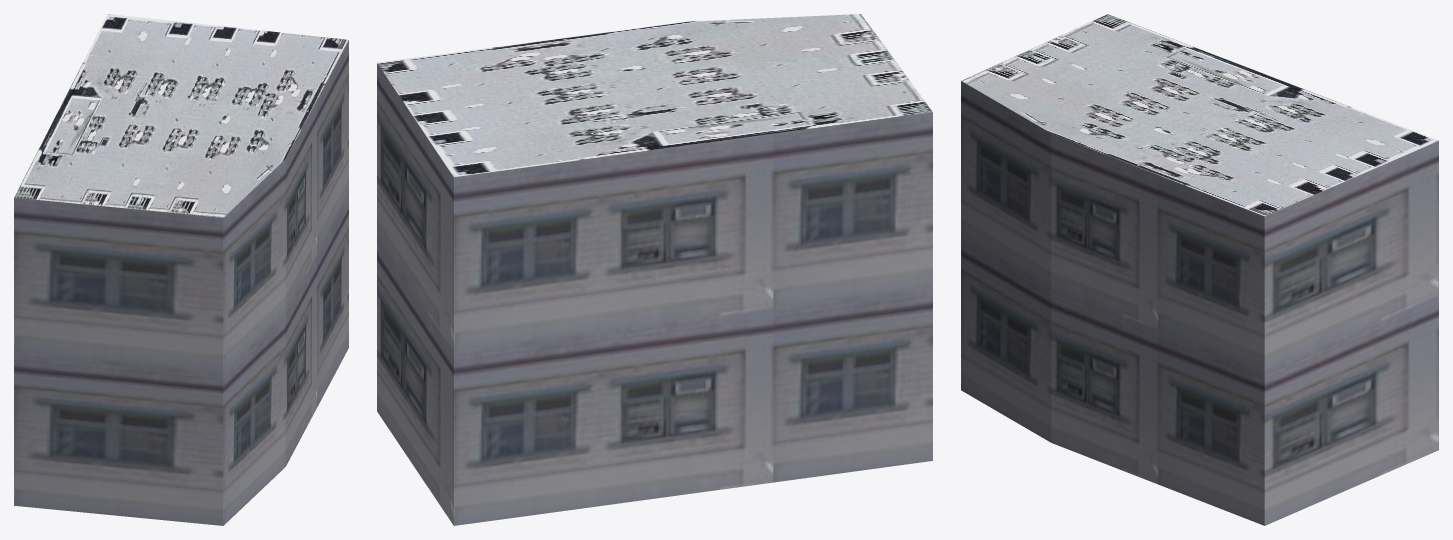
Rendered from ResTex__276.fbx.
3 renders of one model, left to right at view 1: azimuth 30°, elevation 25°; view 2: azimuth 150°, elevation 25°; view 3: azimuth 270°, elevation 25°, orthographic. The views are drawn at different scales.
Parts seen in each view (by area): view 1: CityEngineMaterial_1_m, CityEngineMaterial_2_m; view 2: CityEngineMaterial_1_m, CityEngineMaterial_2_m; view 3: CityEngineMaterial_1_m, CityEngineMaterial_2_m.
Part boxes in pixels (x1=…): CityEngineMaterial_1_m: x1=14, y1=40, x2=348, y2=525; CityEngineMaterial_2_m: x1=14, y1=14, x2=348, y2=217; CityEngineMaterial_1_m: x1=377, y1=63, x2=932, y2=525; CityEngineMaterial_2_m: x1=377, y1=14, x2=932, y2=177; CityEngineMaterial_1_m: x1=961, y1=81, x2=1438, y2=525; CityEngineMaterial_2_m: x1=961, y1=14, x2=1438, y2=216.
Bounding box in the file's own units: 8.42 × 6 × 8.39.
Materials: 2 (2 with a texture image).
